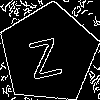Z: (23, 29, 63, 80)
